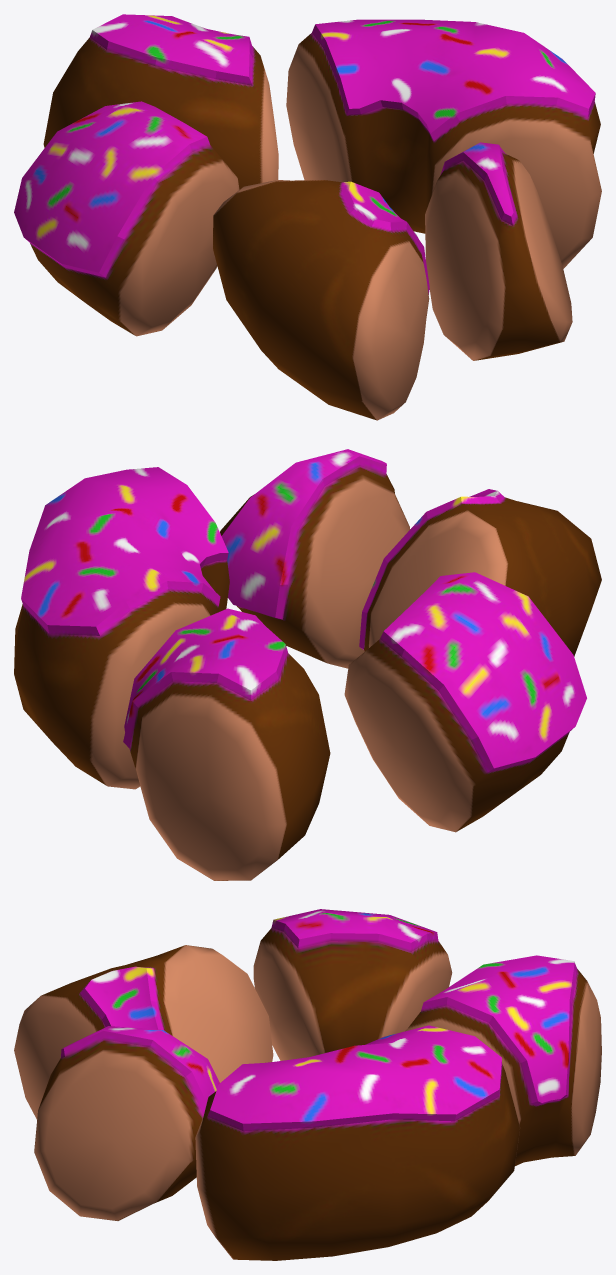
The model's file is Rosquilla.FBX.
The picture shows the model from 3 angles, top to bottom: view 1: azimuth 30°, elevation 25°; view 2: azimuth 150°, elevation 25°; view 3: azimuth 270°, elevation 25°; orthographic projection. The views are drawn at different scales.
Visible parts, largest first — view 1: Group1; view 2: Group1; view 3: Group1.
Part boxes in pixels (left/top/right/bottom): Group1: left=14, top=14, right=601, bottom=420; Group1: left=14, top=449, right=601, bottom=880; Group1: left=14, top=909, right=601, bottom=1260.
Size of the model in its own units: 15728 by 6795 by 16974.
Materials: 1 (1 with a texture image).
